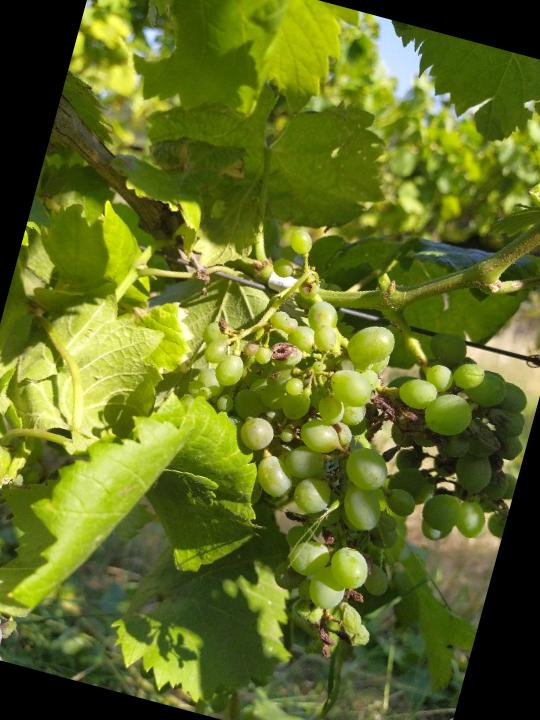grape: (129, 211, 478, 673), (358, 322, 540, 562)
